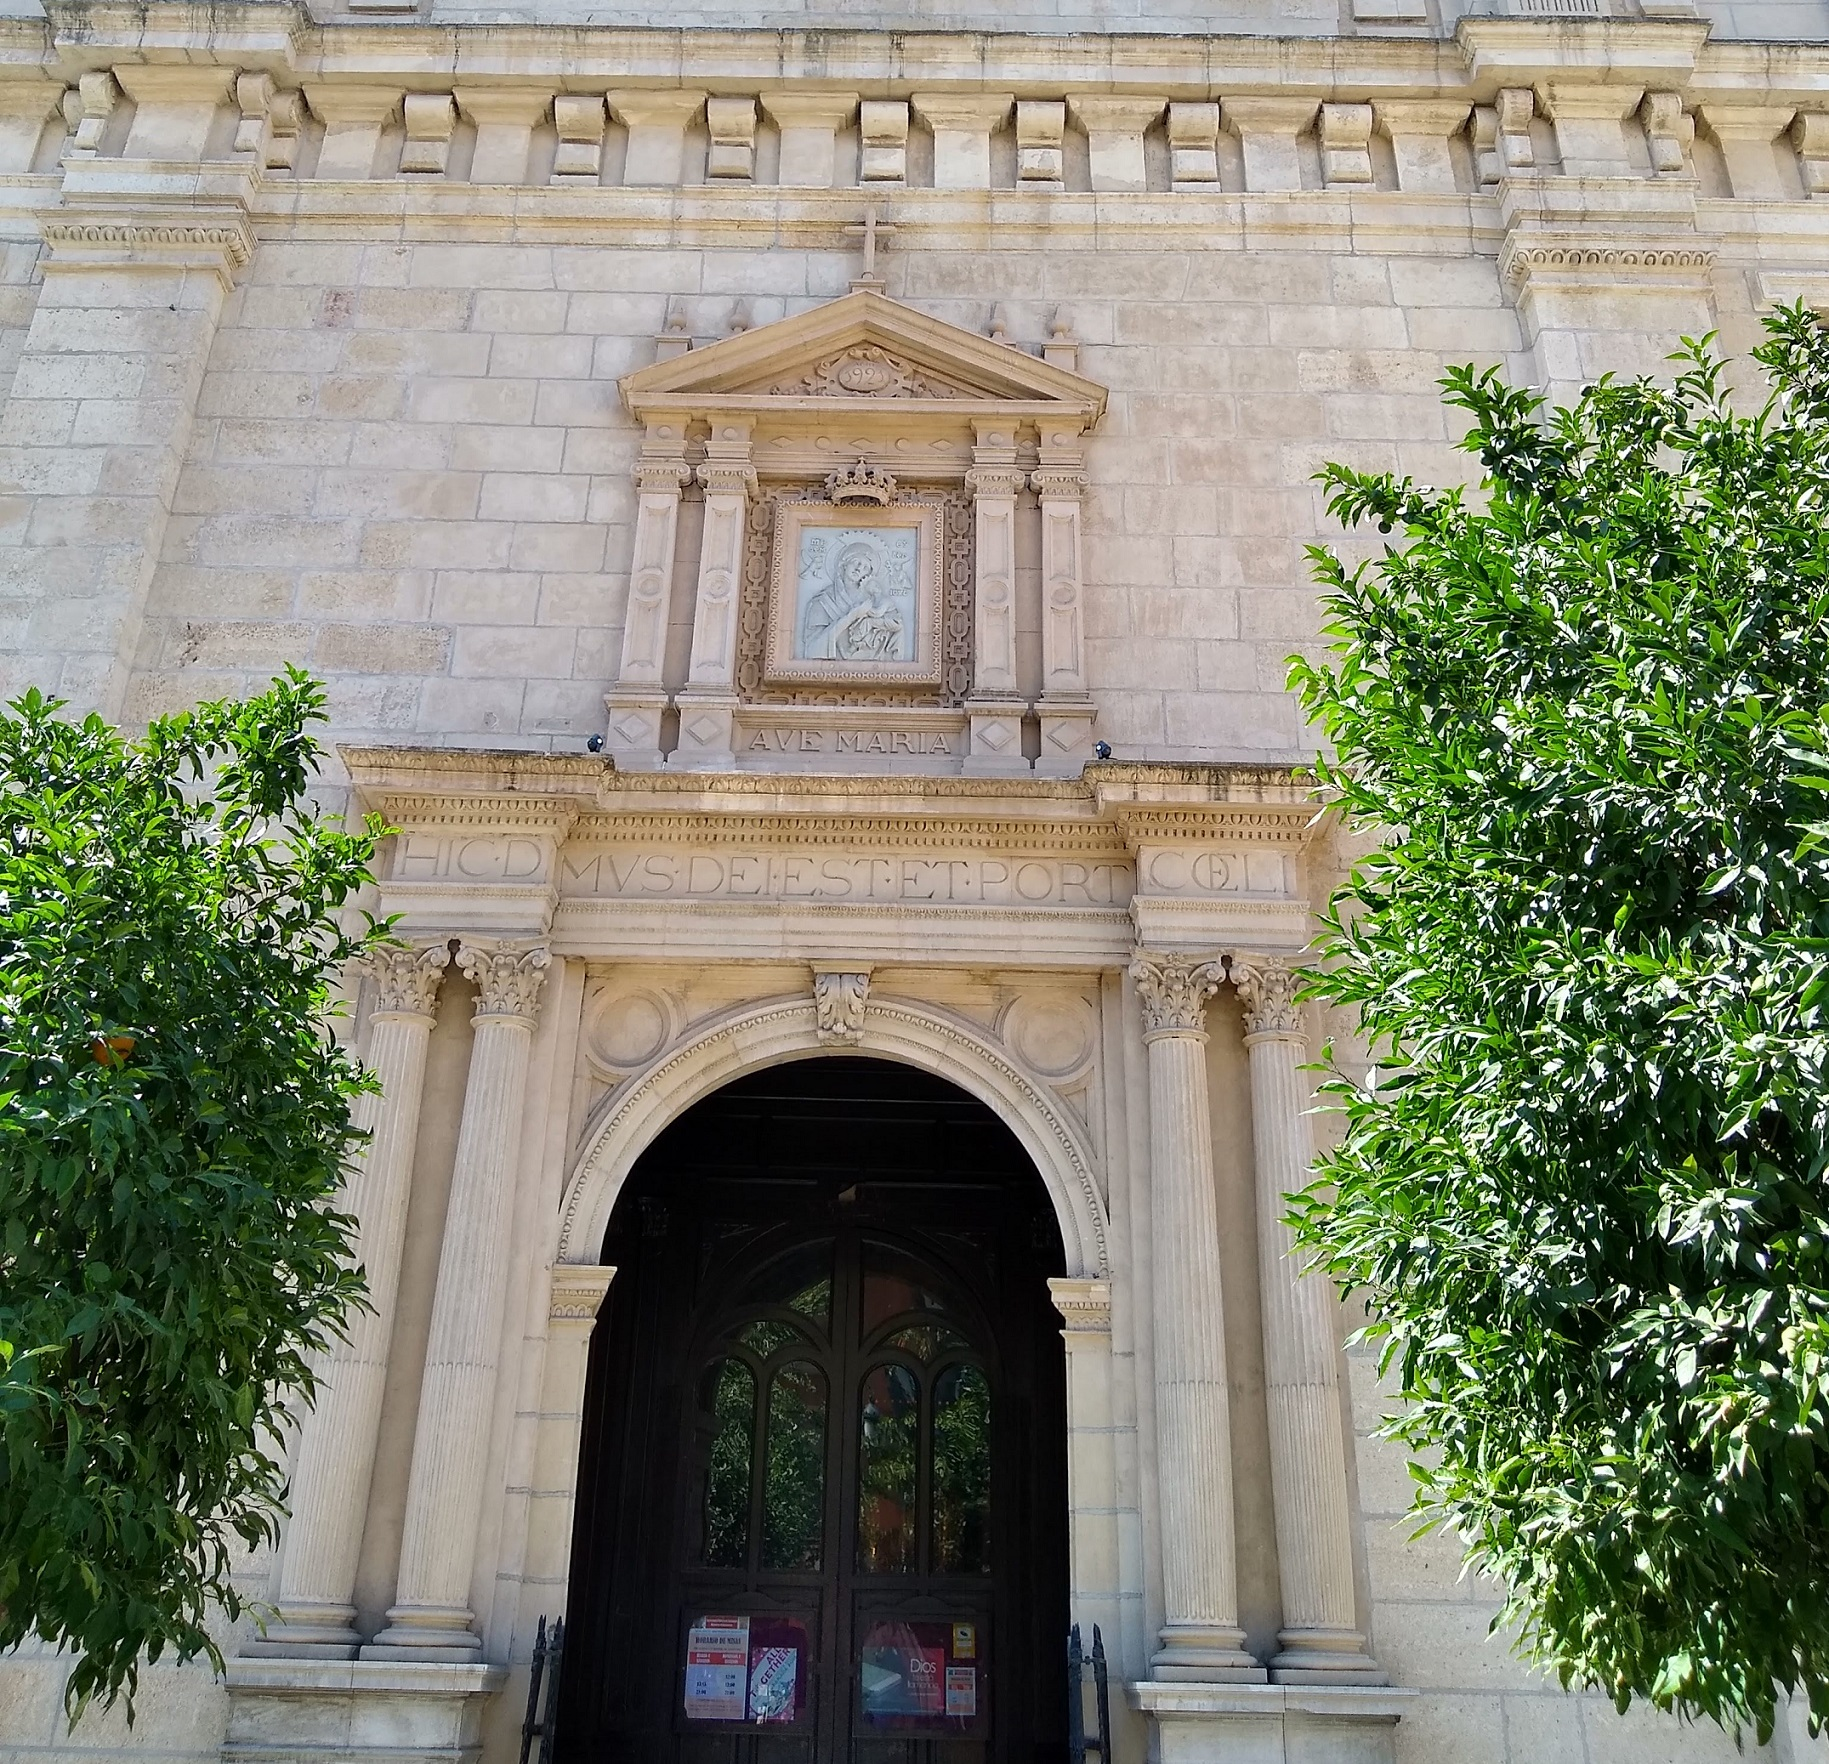arco-medio-punto: (554, 1011, 1106, 1359)
fronton: (599, 283, 1115, 436)
